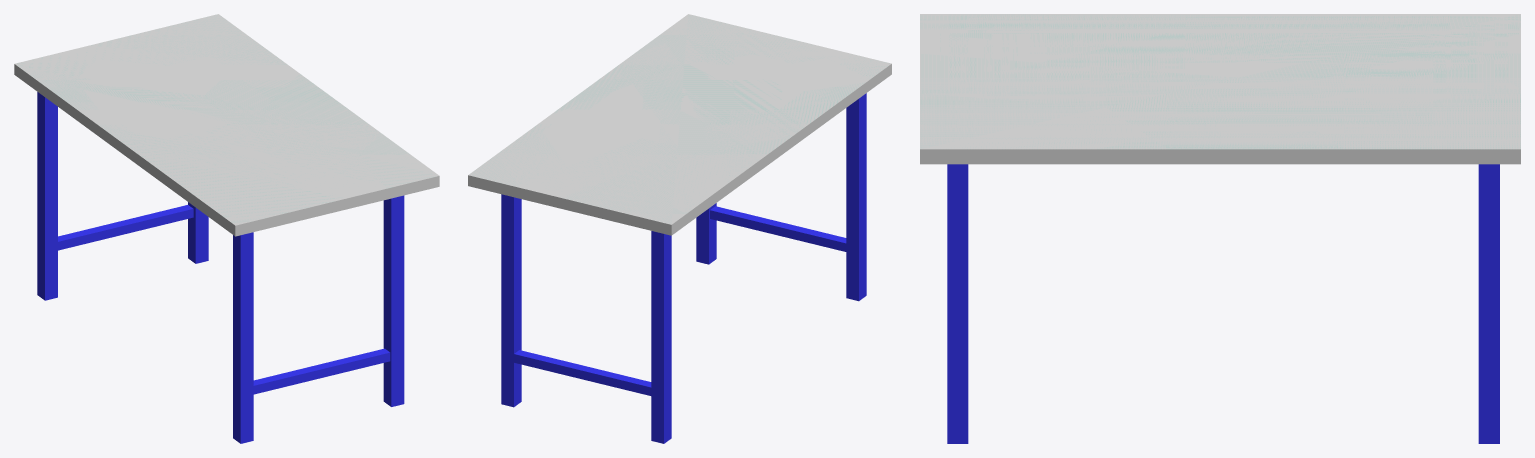
File: classic_table2.fbx
The picture shows the model from 3 angles, left to right: view 1: azimuth 30°, elevation 25°; view 2: azimuth 150°, elevation 25°; view 3: azimuth 270°, elevation 25°; orthographic projection. The views are drawn at different scales.
Parts seen in each view (by area): view 1: planche_de_table1, pied_de_table2, pied_de_table1, pied_de_table4, barre_de_table1, barre_de_table2, pied_de_table3; view 2: planche_de_table1, pied_de_table4, pied_de_table3, pied_de_table1, barre_de_table2, barre_de_table1, pied_de_table2; view 3: planche_de_table1, pied_de_table2, pied_de_table3.
Boxes of the visible parts, x1,y1,x2,y2 form: planche_de_table1: (14,14,439,236); pied_de_table2: (383,195,404,406); pied_de_table1: (233,232,253,443); pied_de_table4: (37,92,57,300); barre_de_table1: (253,348,390,394); barre_de_table2: (58,205,193,250); pied_de_table3: (188,202,208,263); planche_de_table1: (468,14,891,235); pied_de_table4: (651,231,671,443); pied_de_table3: (501,194,521,407); pied_de_table1: (846,93,866,301); barre_de_table2: (514,350,651,395); barre_de_table1: (710,206,846,251); pied_de_table2: (696,203,716,264); planche_de_table1: (920,14,1520,164); pied_de_table2: (947,164,968,443); pied_de_table3: (1478,164,1499,443).
Size of the model in its own units: 80 by 85.83 by 150.
